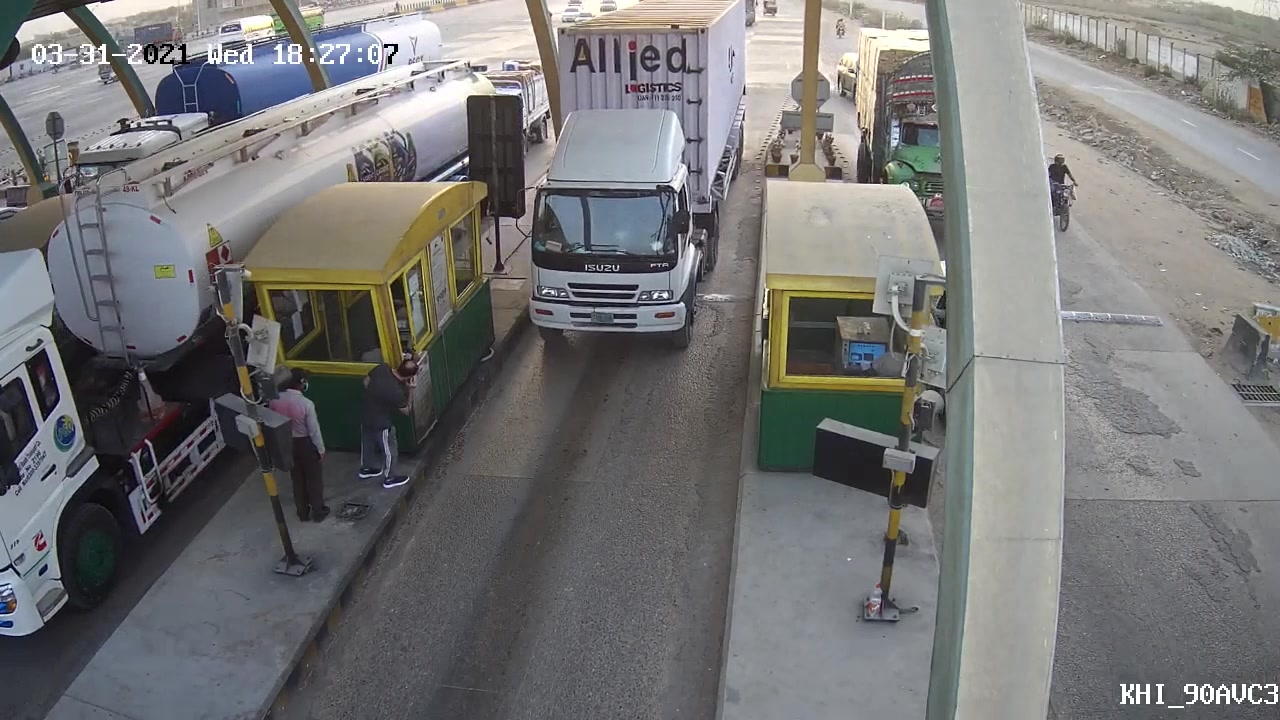F6: (512, 1, 763, 354)
